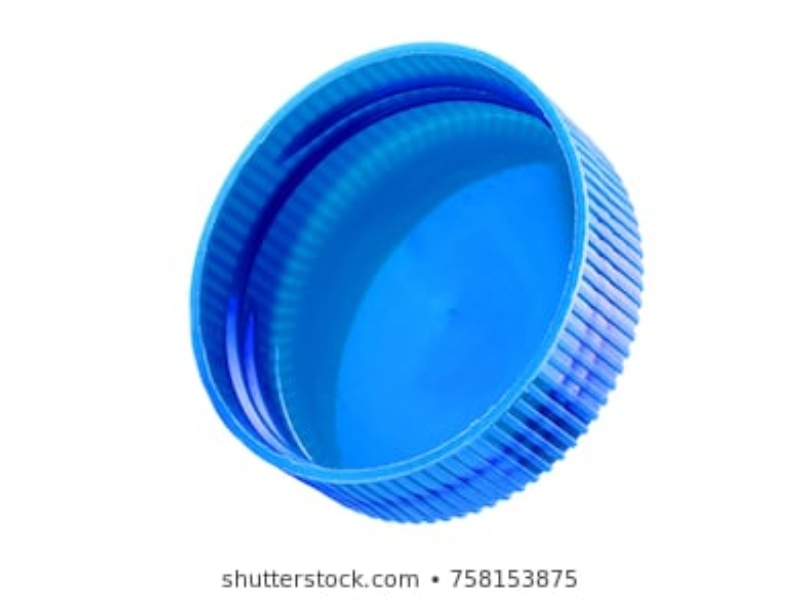bottle-cap: (187, 38, 647, 525)
